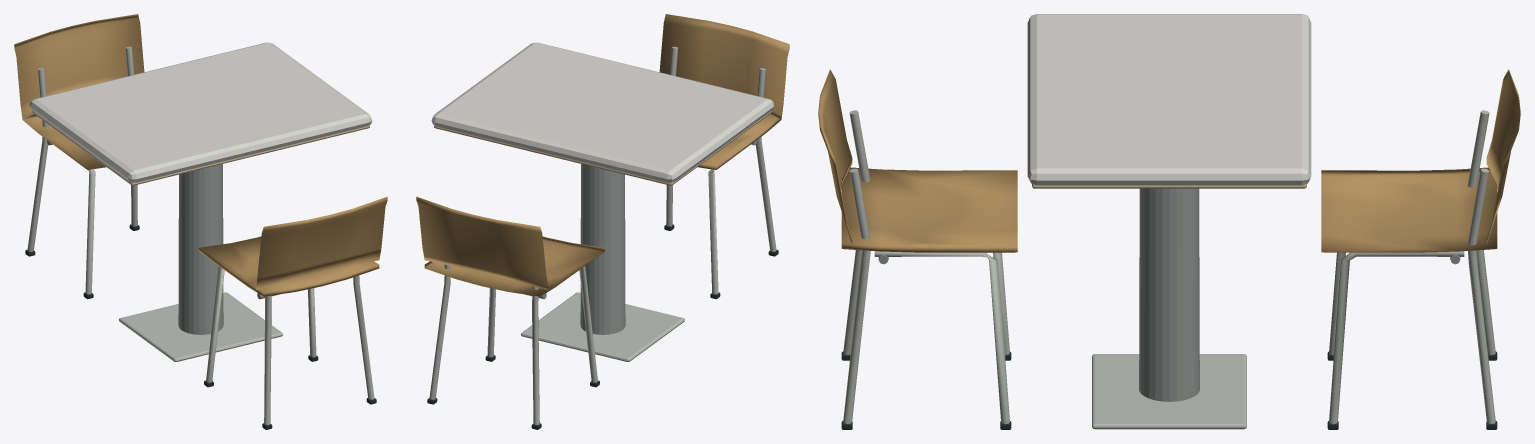
Rendered from tables.glb.
The picture shows the model from 3 angles, left to right: view 1: azimuth 30°, elevation 25°; view 2: azimuth 150°, elevation 25°; view 3: azimuth 270°, elevation 25°; orthographic projection. The views are drawn at different scales.
Visible parts, largest first — view 1: G012_tables; view 2: G012_tables; view 3: G012_tables.
Boxes of the visible parts, box(x1,y1,x2,y2) form: G012_tables: box(14, 14, 387, 429); G012_tables: box(416, 14, 789, 429); G012_tables: box(818, 14, 1520, 429).
Bounding box in the file's own units: 0.812 × 0.7079 × 1.49.
